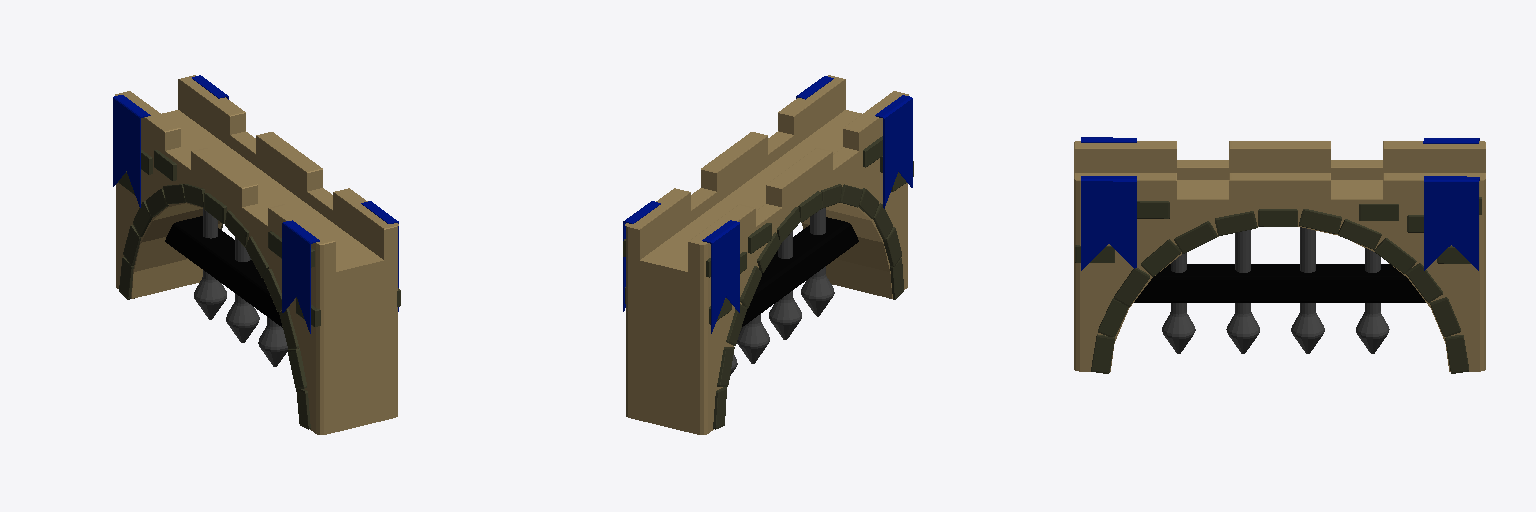
Rendered from Gate_Level2_BlueTeam.obj.
3 renders of one model, left to right at view 1: azimuth 30°, elevation 25°; view 2: azimuth 150°, elevation 25°; view 3: azimuth 270°, elevation 25°, orthographic.
Parts seen in each view (by area): view 1: Gate_Level2_BlueTeam_Cube.023; view 2: Gate_Level2_BlueTeam_Cube.023; view 3: Gate_Level2_BlueTeam_Cube.023.
Boxes of the visible parts, box(x1,y1,x2,y2) form: Gate_Level2_BlueTeam_Cube.023: box(113, 75, 400, 434); Gate_Level2_BlueTeam_Cube.023: box(623, 75, 913, 434); Gate_Level2_BlueTeam_Cube.023: box(1074, 137, 1485, 373).
Size of the model in its own units: 9.55 by 19.51 by 37.53.